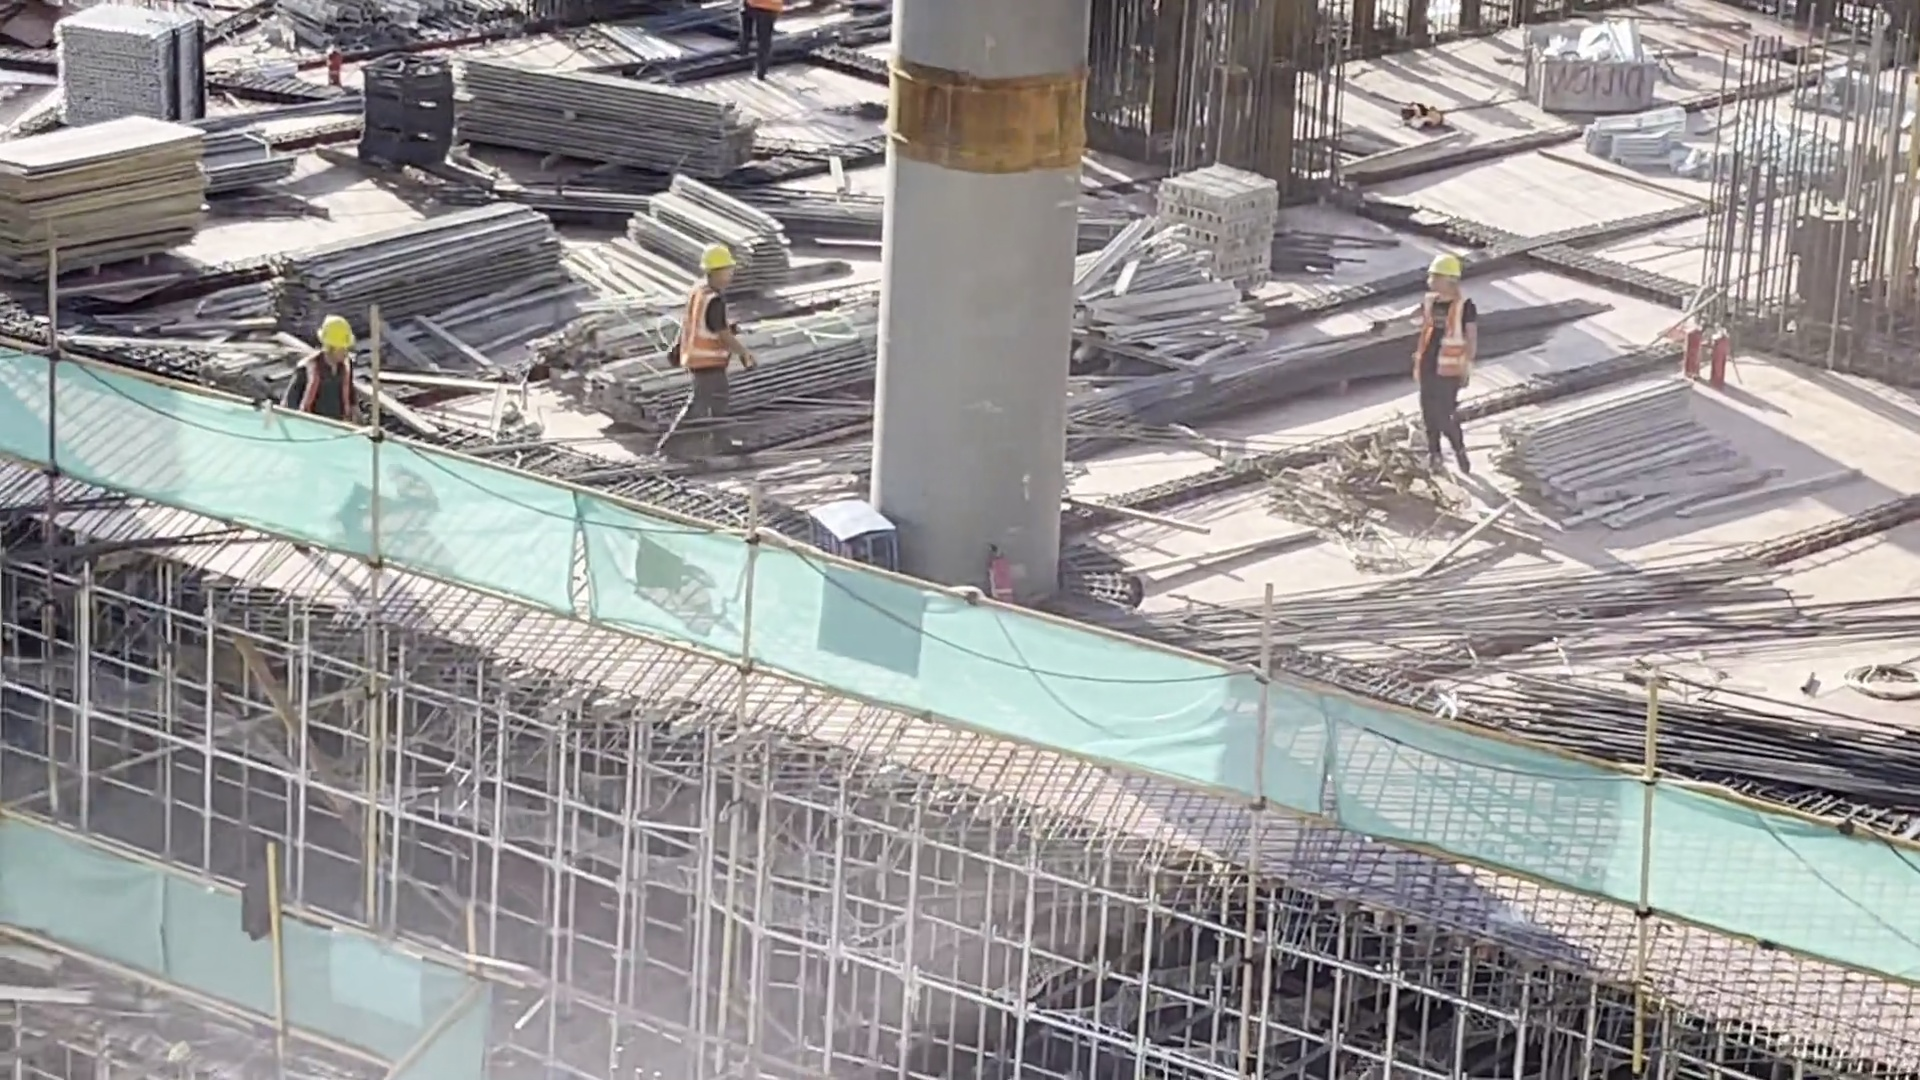board: (1, 114, 225, 264)
helmet: (693, 245, 733, 286), (316, 318, 352, 352), (1431, 239, 1457, 282)
hopper: (1523, 26, 1675, 131)
person: (652, 242, 748, 443), (285, 295, 385, 460), (1411, 250, 1486, 468)
vest: (668, 285, 733, 371), (1413, 287, 1472, 376), (292, 345, 356, 422)
wood: (1480, 353, 1748, 520), (437, 50, 756, 189), (262, 197, 569, 305), (626, 167, 797, 293)
